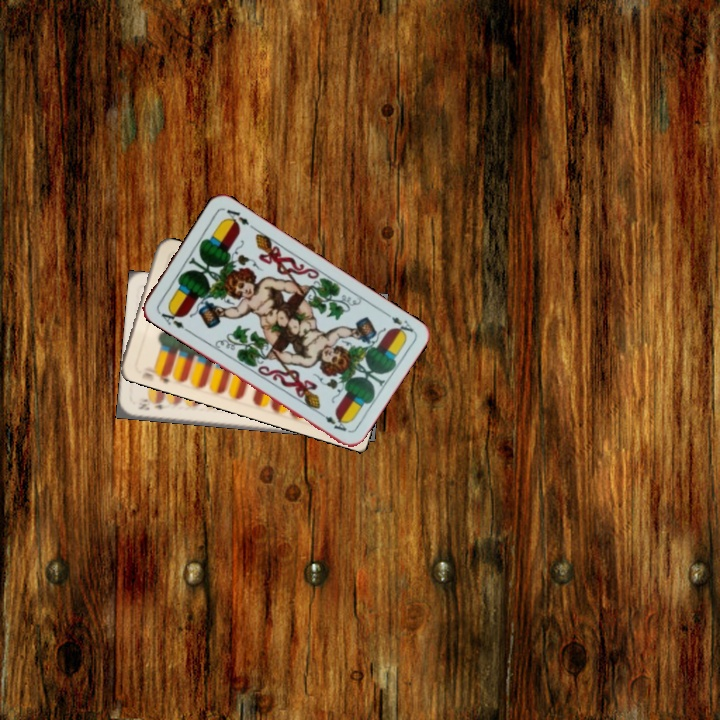E10: (138, 365, 174, 386), (134, 396, 172, 413)
EA: (380, 307, 416, 339), (154, 304, 191, 334)
